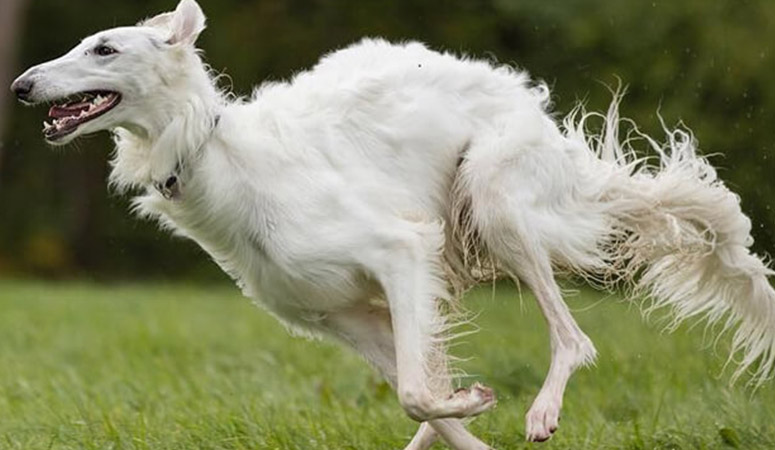borzoi: (8, 6, 775, 450)
